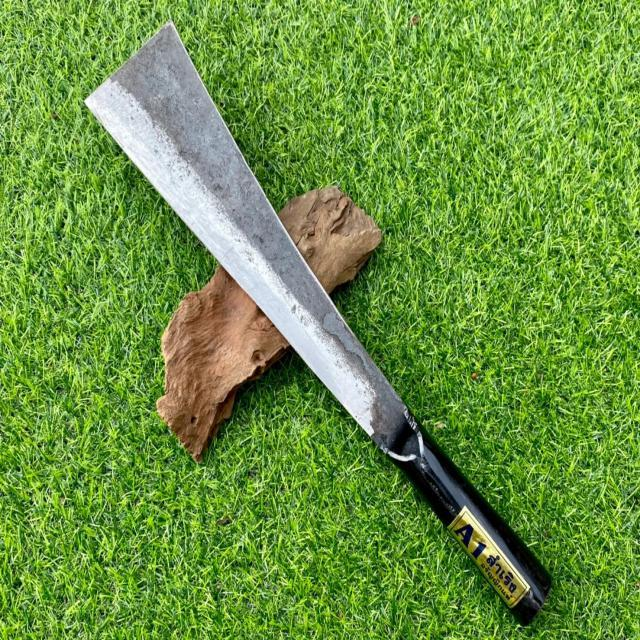eto: (76, 14, 561, 633)
